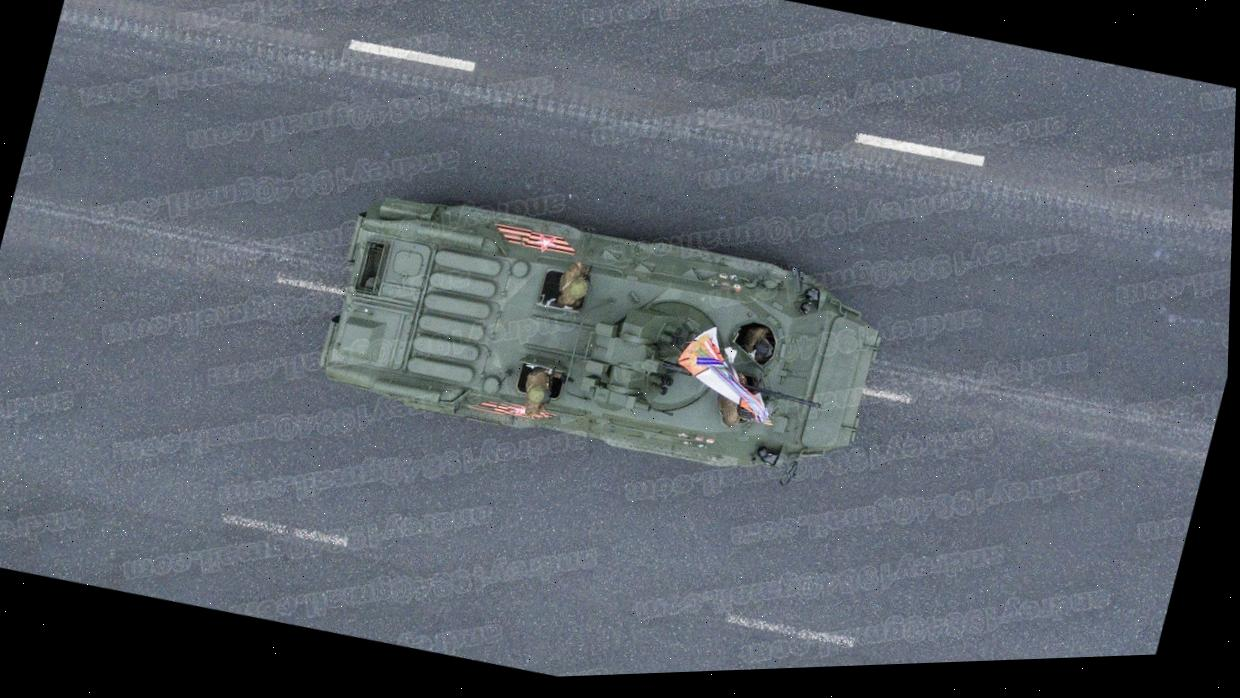armored_car: (303, 157, 904, 514)
